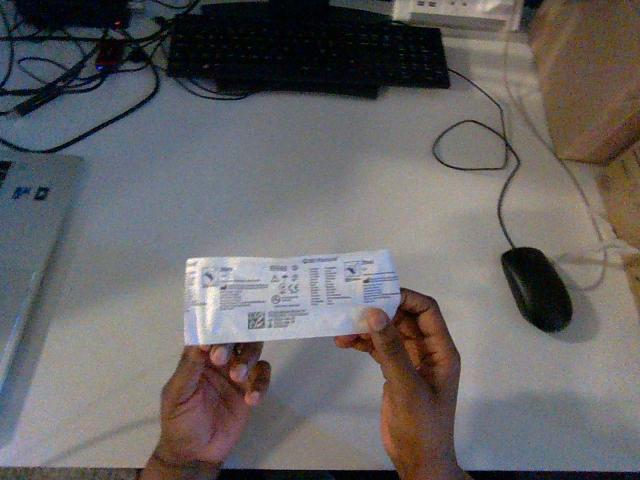syringe: (184, 250, 400, 344)
